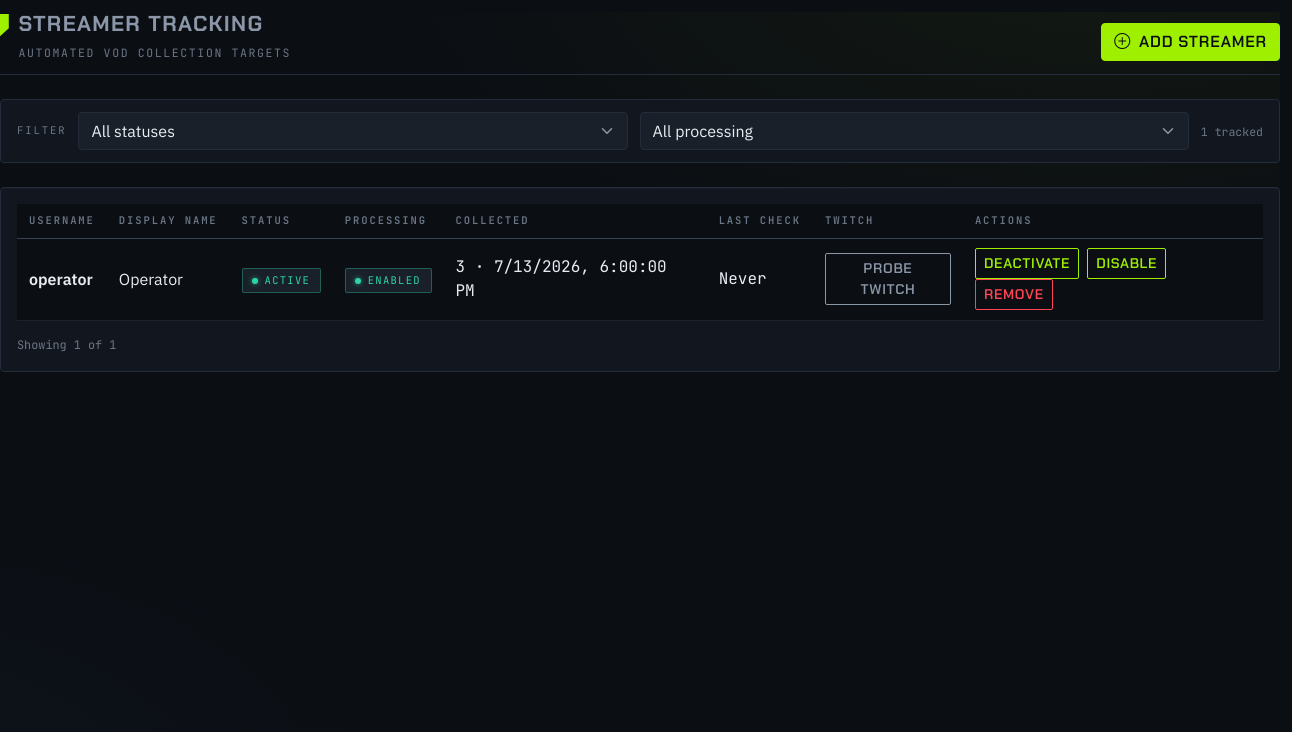
StreamerTracking pagination › normalizes mutation failures at the tracking boundary
Click the button "Deactivate".
click(1027, 264)  # box [975,248,1079,279]
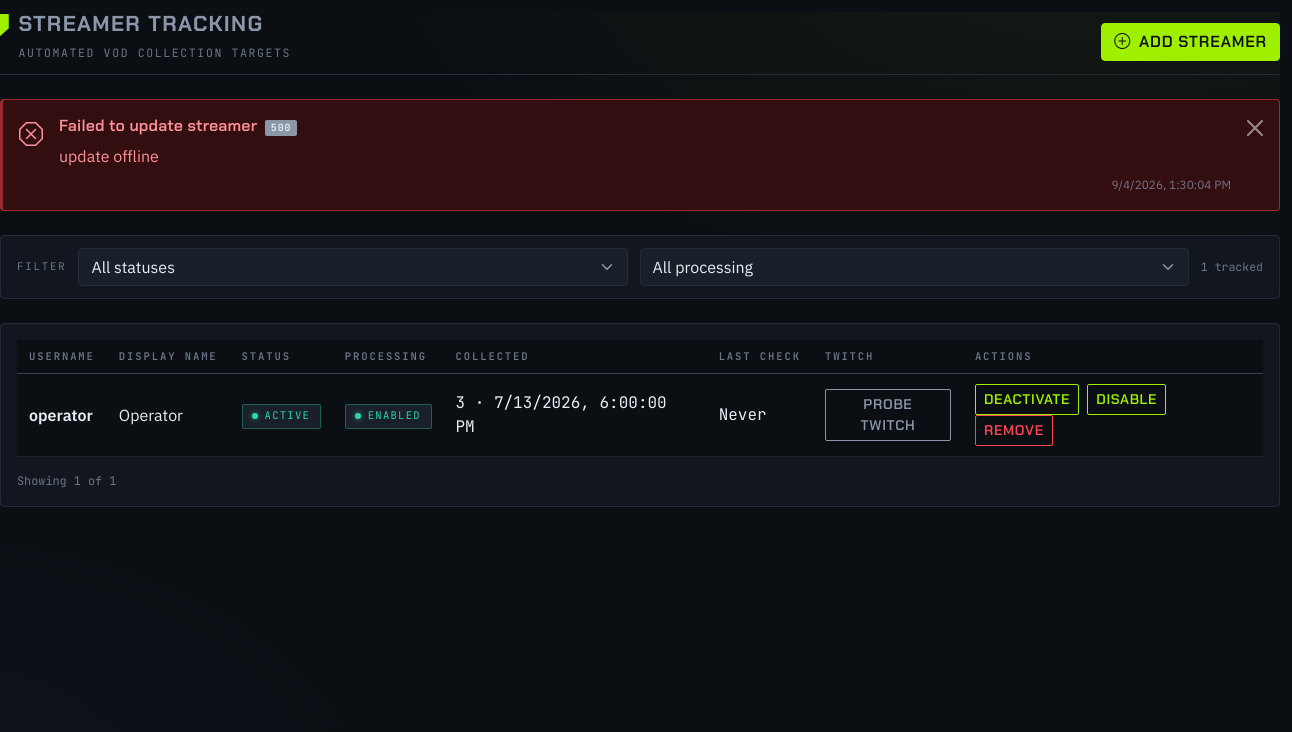
Check: the text "update offline" is shown, box [59,146,159,166]
